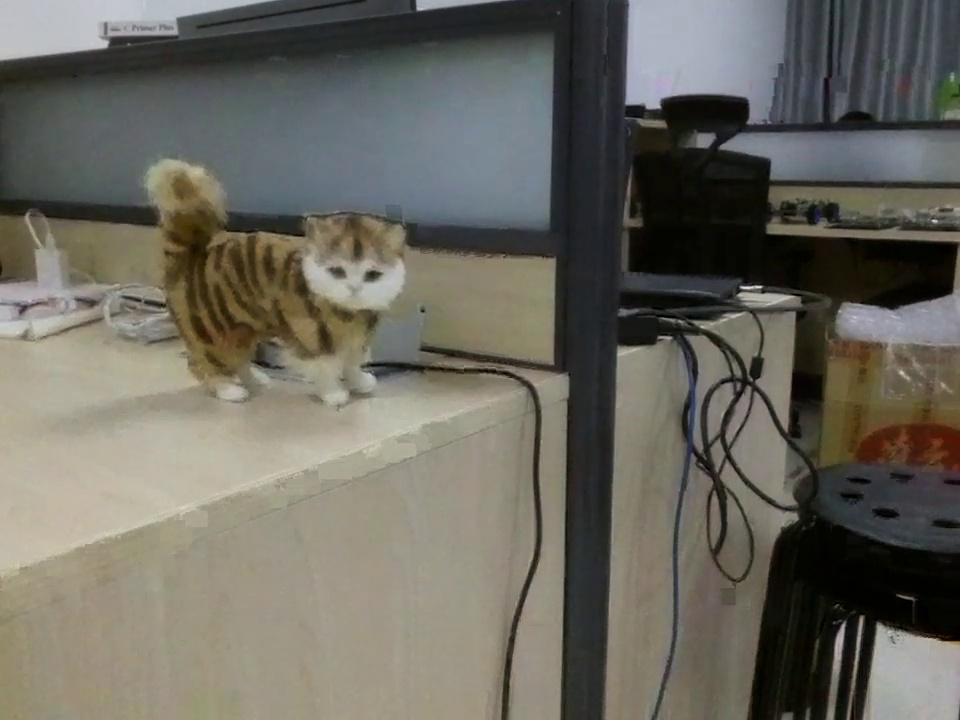cat: (137, 142, 447, 427)
